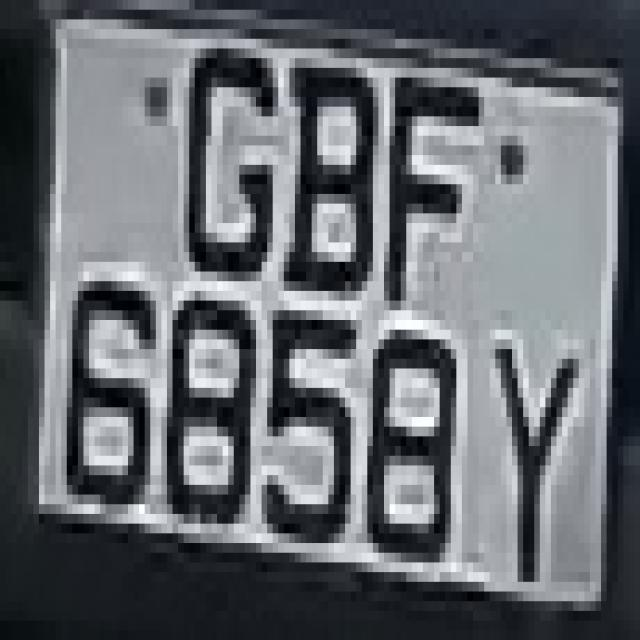5: (256, 272, 362, 552)
6: (50, 252, 156, 533)
8: (362, 291, 462, 621), (161, 252, 256, 553)
B: (284, 39, 373, 310)
F: (373, 49, 478, 349)
G: (167, 39, 273, 320)
Y: (473, 291, 590, 611)
